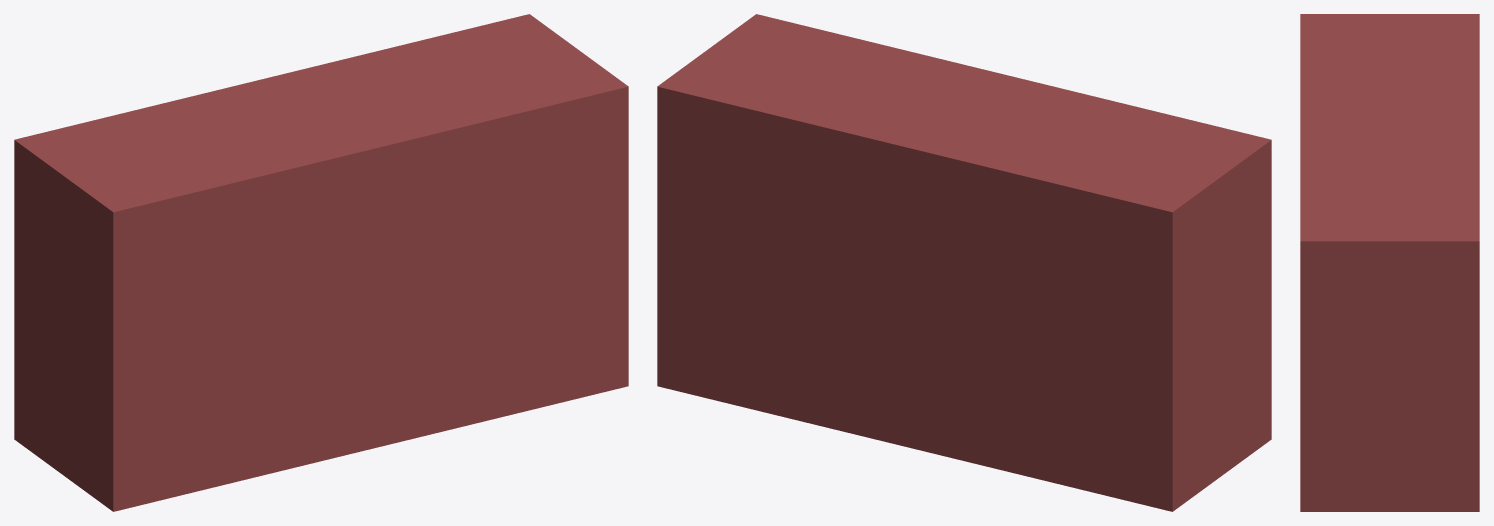
Rendered from kart_light.glb.
3 views of the same model, side by side, from view 1: azimuth 30°, elevation 25°; view 2: azimuth 150°, elevation 25°; view 3: azimuth 270°, elevation 25° (orthographic). The views are drawn at different scales.
Parts seen in each view (by area): view 1: light; view 2: light; view 3: light.
Part boxes in pixels (<box>): light: <box>14,14,628,511</box>; light: <box>657,14,1271,511</box>; light: <box>1300,14,1479,511</box>.
Size of the model in its own units: 0.18 by 0.1 by 0.06.
